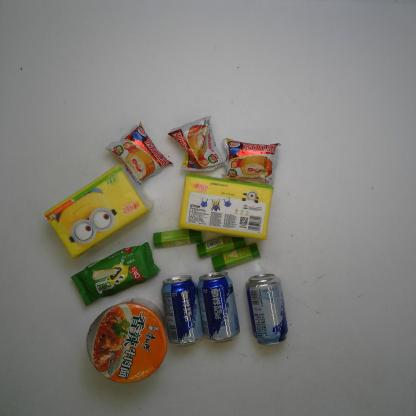Alcohol: (196, 270, 241, 344), (244, 272, 288, 346), (160, 274, 204, 348)
Dessert: (70, 240, 161, 308), (104, 120, 174, 190), (166, 116, 226, 172), (220, 136, 282, 188)
Instant Noodles: (86, 298, 168, 384)
Stationery: (212, 242, 262, 272), (196, 234, 246, 260), (152, 228, 203, 248)
Tissue: (44, 163, 155, 259), (178, 172, 274, 242)
